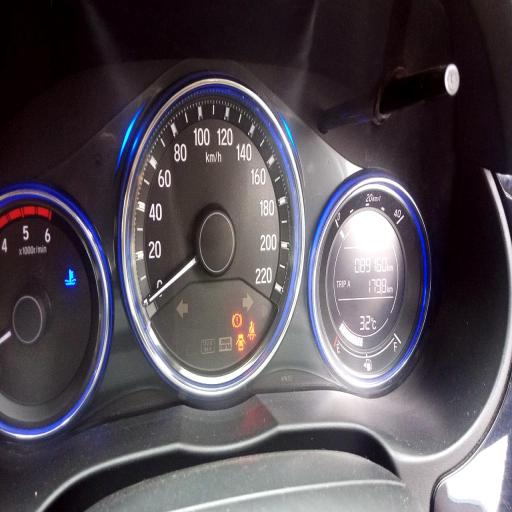belt: (248, 320, 256, 342)
brake_system_fault: (232, 313, 242, 329)
